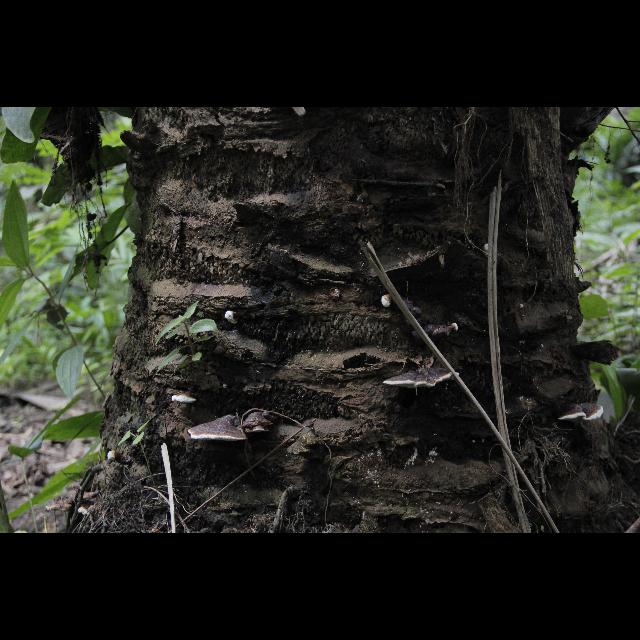ganoderma: (394, 295, 452, 343), (384, 368, 460, 391), (190, 416, 249, 443), (559, 404, 605, 425), (244, 412, 276, 434), (46, 496, 76, 513), (173, 393, 198, 405), (79, 506, 92, 517)
primordium: (227, 312, 240, 325), (109, 452, 122, 463), (383, 296, 393, 309), (483, 244, 490, 258), (452, 324, 460, 333)
